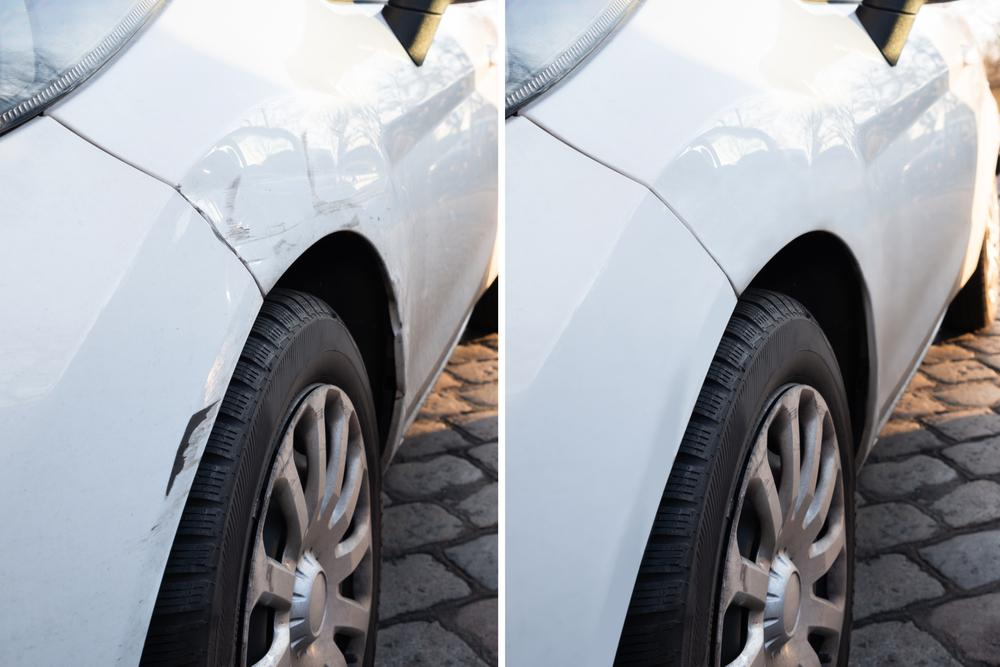scratch: (186, 131, 372, 262), (163, 393, 225, 493)
